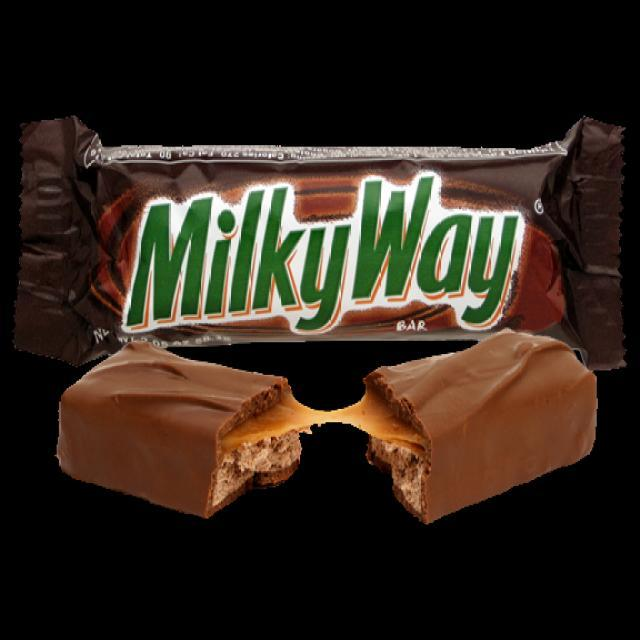Chocolate bar: (11, 129, 633, 345)
Chocolate bar packaged: (56, 337, 592, 537)
